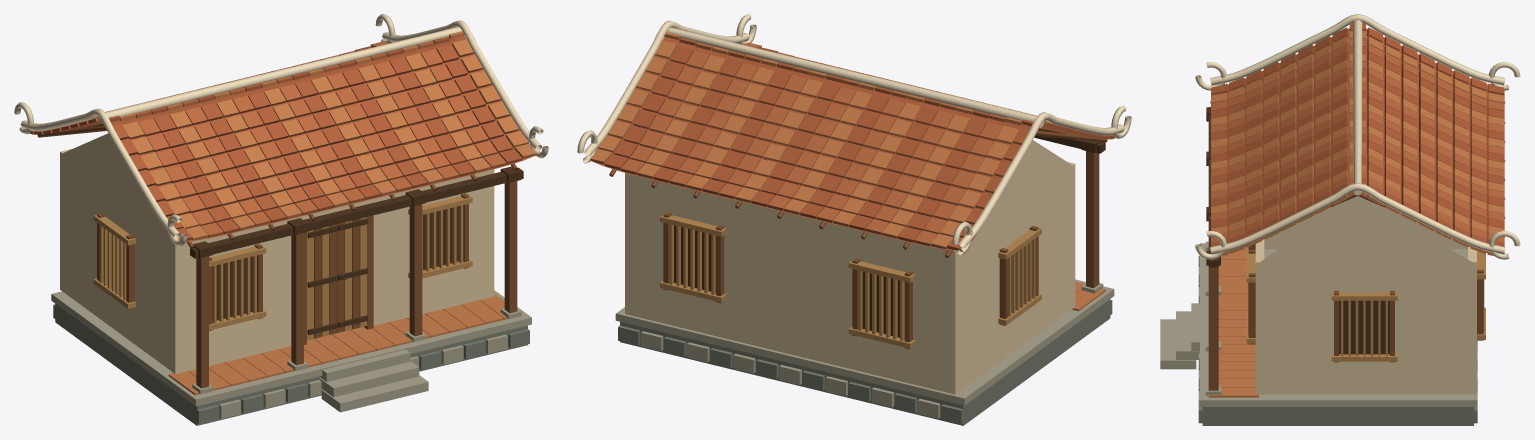
File: LV_NHA_DAN_A.glb
3 renders of one model, left to right at view 1: azimuth 30°, elevation 25°; view 2: azimuth 150°, elevation 25°; view 3: azimuth 270°, elevation 25°, orthographic. The views are drawn at different scales.
Visible parts, largest first — view 1: LV_NHA_DAN_A-surface-dec8a1, LV_NHA_DAN_A-surface-c57b49, LV_NHA_DAN_A-surface-af5e39, LV_NHA_DAN_A-surface-bb6a40, LV_NHA_DAN_A-surface-a8a28c, LV_NHA_DAN_A-surface-825331, LV_NHA_DAN_A-surface-b68850, LV_NHA_DAN_A-surface-ead9b8, LV_NHA_DAN_A-surface-50351f, LV_NHA_DAN_A-surface-797e70, door-hinge-1-surface-b68850, door-hinge-1-surface-825331 (+4 smaller); view 2: LV_NHA_DAN_A-surface-dec8a1, LV_NHA_DAN_A-surface-af5e39, LV_NHA_DAN_A-surface-c57b49, LV_NHA_DAN_A-surface-bb6a40, LV_NHA_DAN_A-surface-b68850, LV_NHA_DAN_A-surface-a8a28c, LV_NHA_DAN_A-surface-ead9b8, LV_NHA_DAN_A-surface-797e70, LV_NHA_DAN_A-surface-825331, LV_NHA_DAN_A-surface-50351f; view 3: LV_NHA_DAN_A-surface-dec8a1, LV_NHA_DAN_A-surface-af5e39, LV_NHA_DAN_A-surface-c57b49, LV_NHA_DAN_A-surface-bb6a40, LV_NHA_DAN_A-surface-ead9b8, LV_NHA_DAN_A-surface-a8a28c, LV_NHA_DAN_A-surface-797e70, LV_NHA_DAN_A-surface-825331, LV_NHA_DAN_A-surface-b68850, LV_NHA_DAN_A-surface-50351f.
Part boxes in pixels (box(x1,y1,x2,y2)): LV_NHA_DAN_A-surface-dec8a1: box(60, 133, 494, 374); LV_NHA_DAN_A-surface-c57b49: box(63, 27, 536, 395); LV_NHA_DAN_A-surface-af5e39: box(30, 36, 535, 241); LV_NHA_DAN_A-surface-bb6a40: box(67, 41, 506, 237); LV_NHA_DAN_A-surface-a8a28c: box(51, 290, 531, 418); LV_NHA_DAN_A-surface-825331: box(37, 118, 517, 388); LV_NHA_DAN_A-surface-b68850: box(93, 195, 472, 330); LV_NHA_DAN_A-surface-ead9b8: box(14, 14, 548, 246); LV_NHA_DAN_A-surface-50351f: box(190, 166, 523, 320); LV_NHA_DAN_A-surface-797e70: box(53, 304, 529, 425); door-hinge-1-surface-b68850: box(344, 217, 367, 331); door-hinge-1-surface-825331: box(337, 219, 359, 332); LV_NHA_DAN_A-surface-dec8a1: box(625, 140, 1075, 394); LV_NHA_DAN_A-surface-af5e39: box(587, 37, 1115, 251); LV_NHA_DAN_A-surface-c57b49: box(590, 27, 1105, 311); LV_NHA_DAN_A-surface-bb6a40: box(620, 42, 1076, 246); LV_NHA_DAN_A-surface-b68850: box(660, 213, 1041, 348); LV_NHA_DAN_A-surface-a8a28c: box(615, 279, 1114, 418); LV_NHA_DAN_A-surface-ead9b8: box(577, 14, 1131, 255); LV_NHA_DAN_A-surface-797e70: box(618, 299, 1112, 425); LV_NHA_DAN_A-surface-825331: box(609, 122, 1107, 349); LV_NHA_DAN_A-surface-50351f: box(674, 135, 1105, 337); LV_NHA_DAN_A-surface-dec8a1: box(1255, 196, 1476, 394); LV_NHA_DAN_A-surface-af5e39: box(1211, 23, 1504, 254); LV_NHA_DAN_A-surface-c57b49: box(1208, 31, 1504, 397); LV_NHA_DAN_A-surface-bb6a40: box(1211, 39, 1504, 242); LV_NHA_DAN_A-surface-ead9b8: box(1195, 14, 1520, 259); LV_NHA_DAN_A-surface-a8a28c: box(1160, 241, 1477, 406); LV_NHA_DAN_A-surface-797e70: box(1198, 255, 1477, 425); LV_NHA_DAN_A-surface-825331: box(1208, 79, 1505, 390); LV_NHA_DAN_A-surface-b68850: box(1246, 246, 1485, 361); LV_NHA_DAN_A-surface-50351f: box(1206, 107, 1389, 354).
Size of the model in its own units: 7.29 by 4.92 by 6.44.
